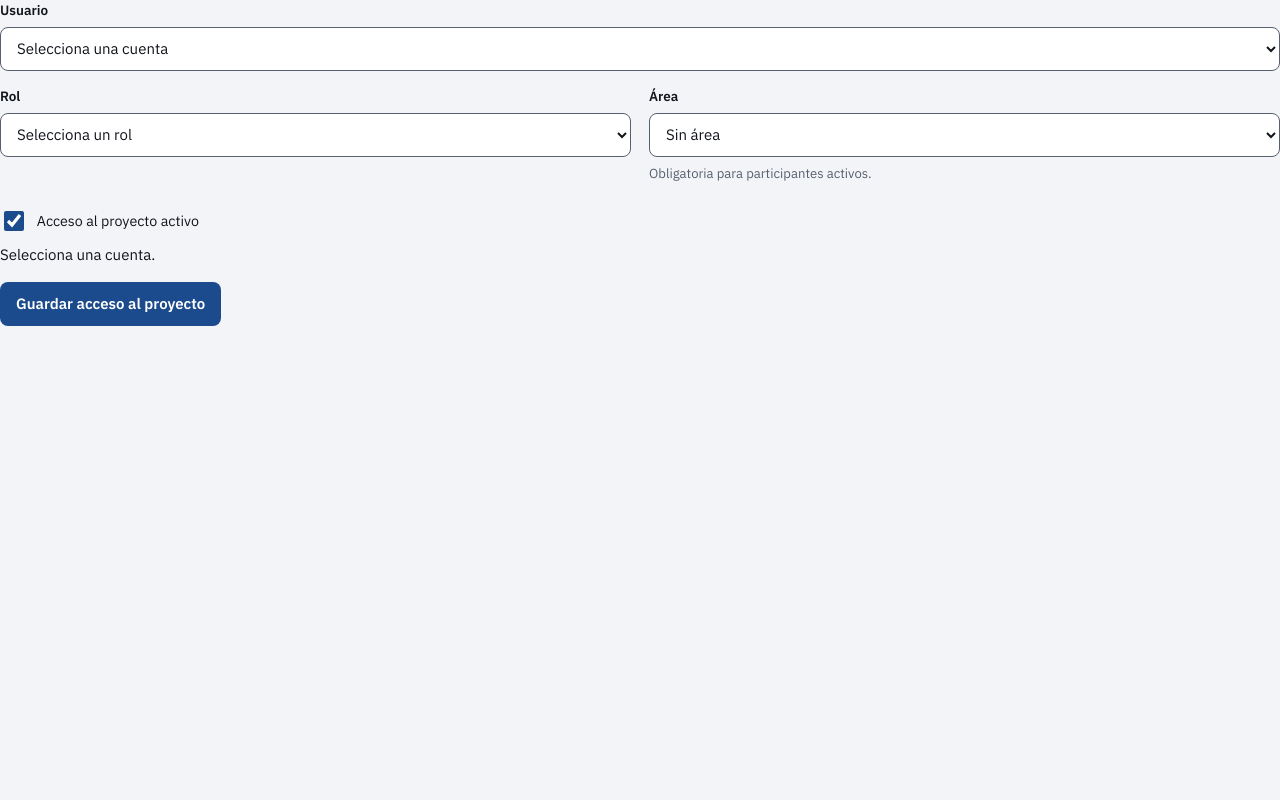
Test: quitar área pide confirmación y cancelar conserva datos y devuelve foco
Select "Carla · ya está en el proyecto" in the dropdown labelled "Usuario" at (640, 49), box 0,27 -> 1279,71
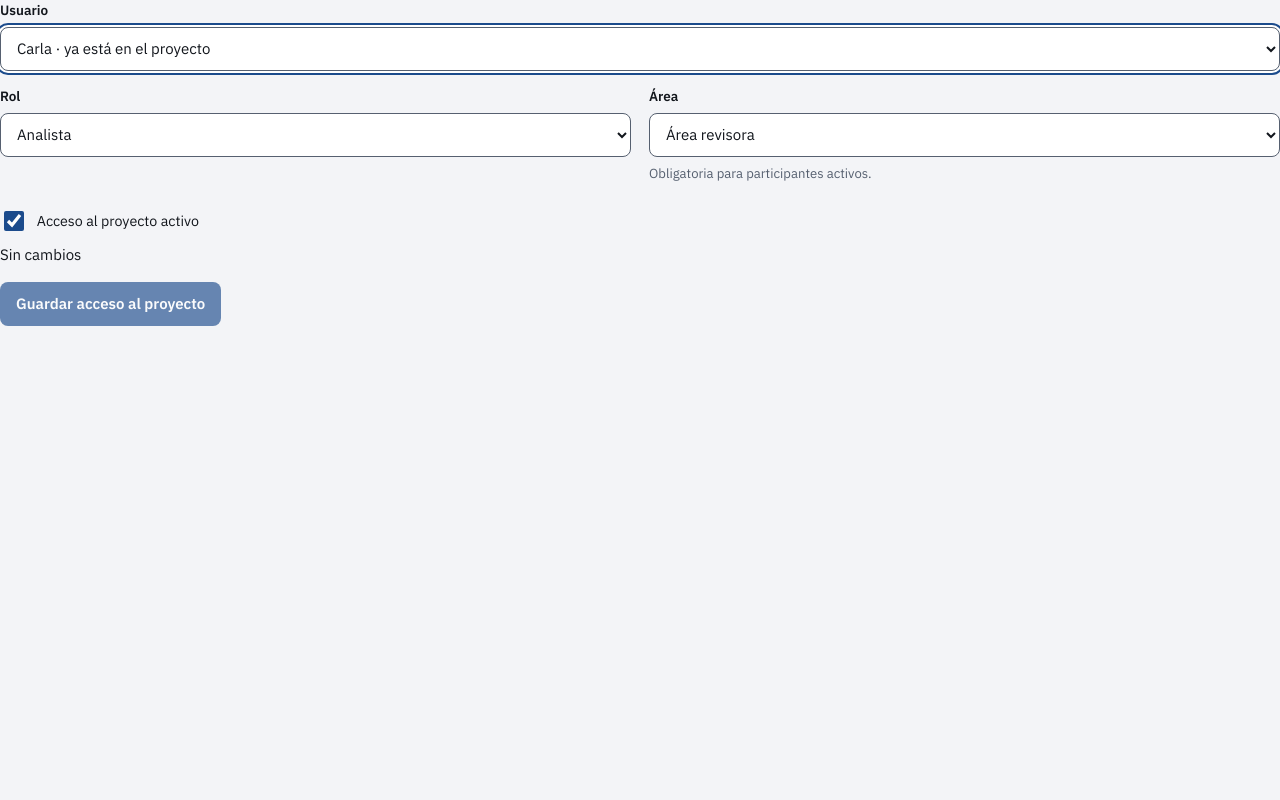
Select "Sin área" in the dropdown labelled "Área" at (964, 135), box 649,113 -> 1279,157
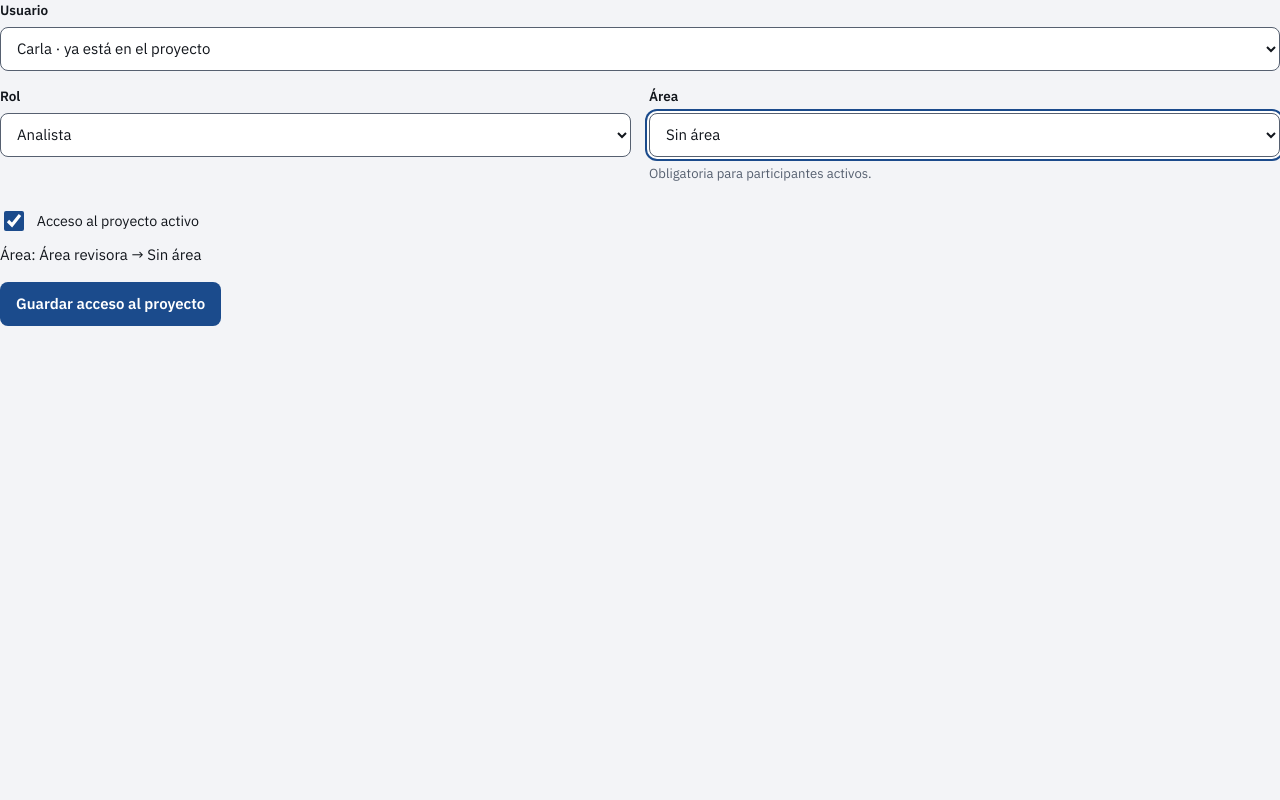
Click the button "Guardar acceso al proyecto" at (111, 304), box 0,282 -> 221,326
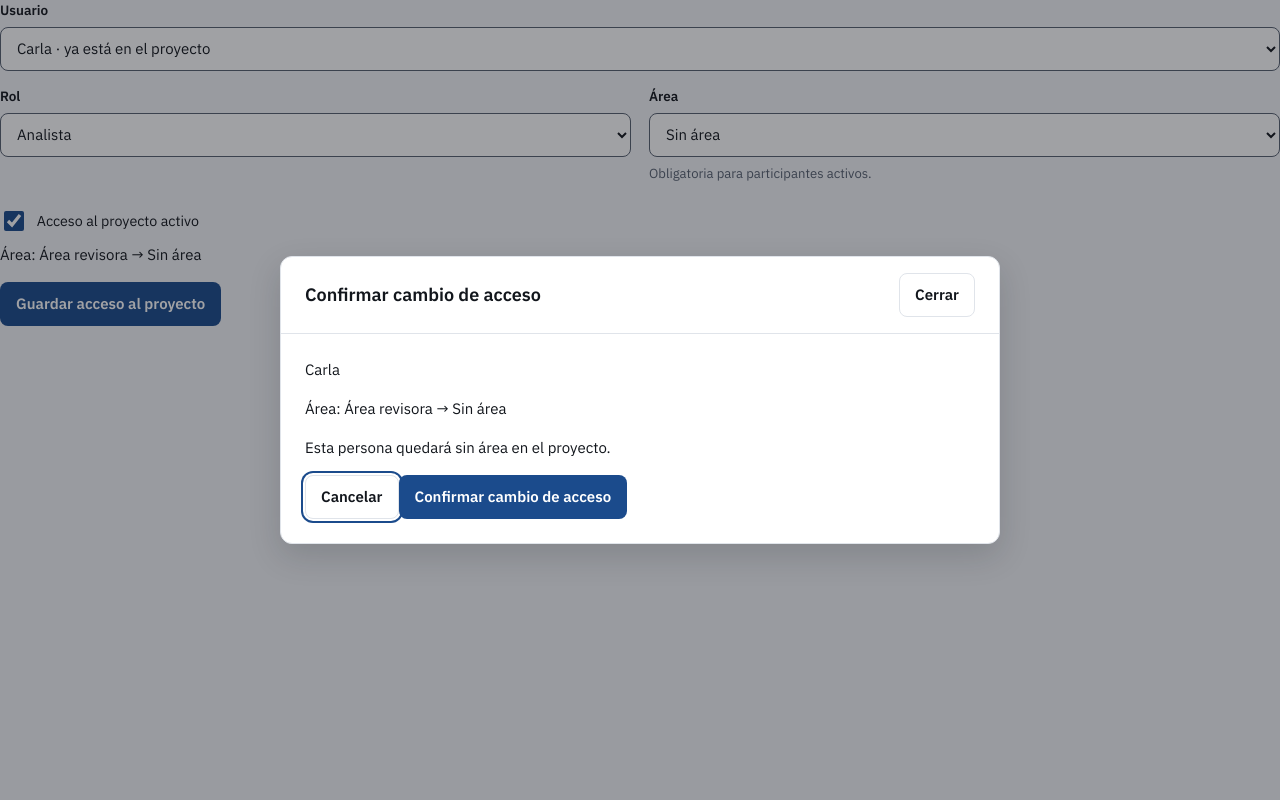
Check: the dialog is shown, box 280,256 -> 1000,544
Check: the text "Esta persona quedará sin área en el proyecto." is shown, box 305,438 -> 611,457
Click the button "Cancelar" at (352, 497), box 305,475 -> 398,519
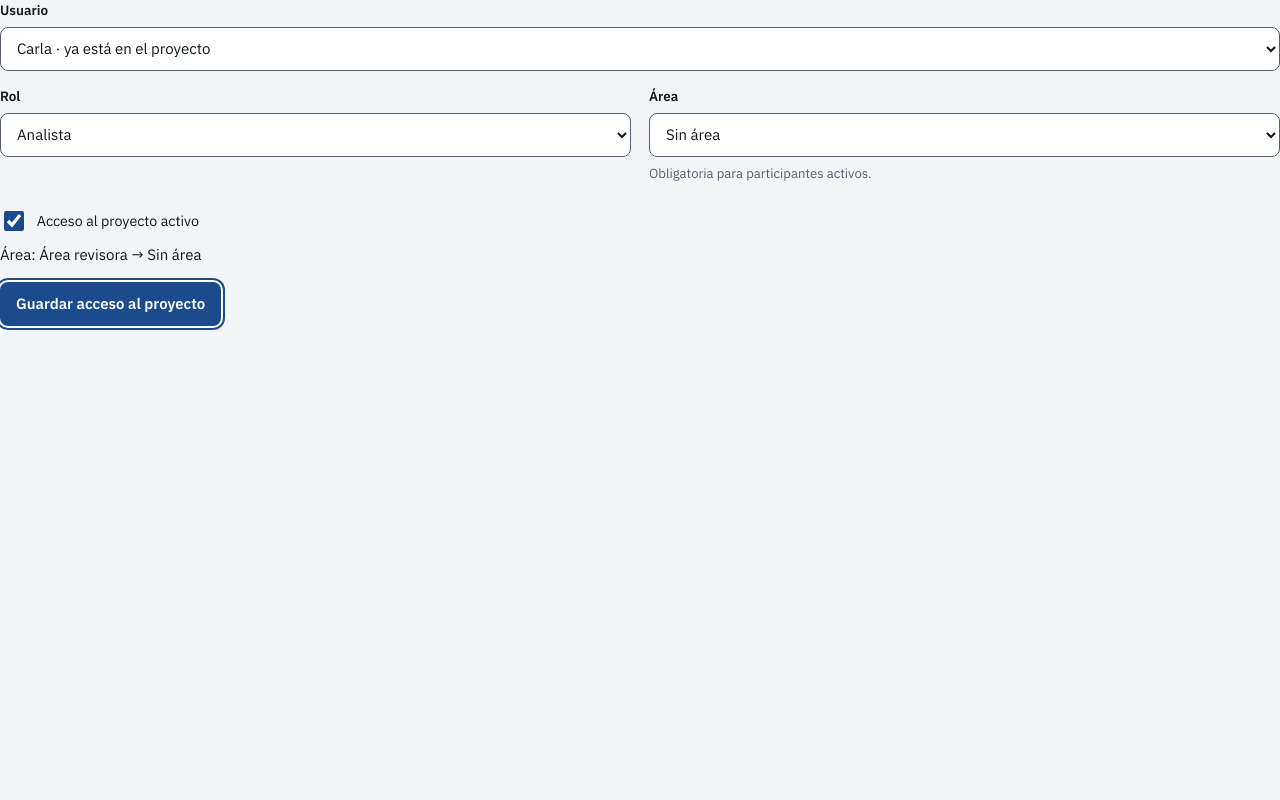
Check: the dialog is gone
